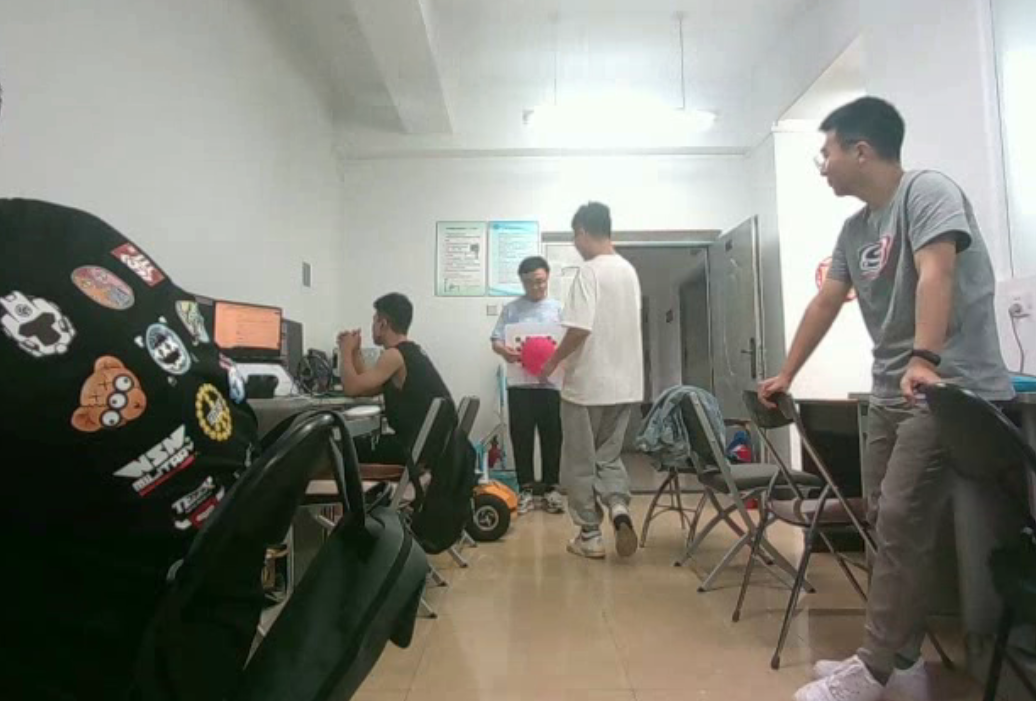balloon: (520, 338, 557, 380)
